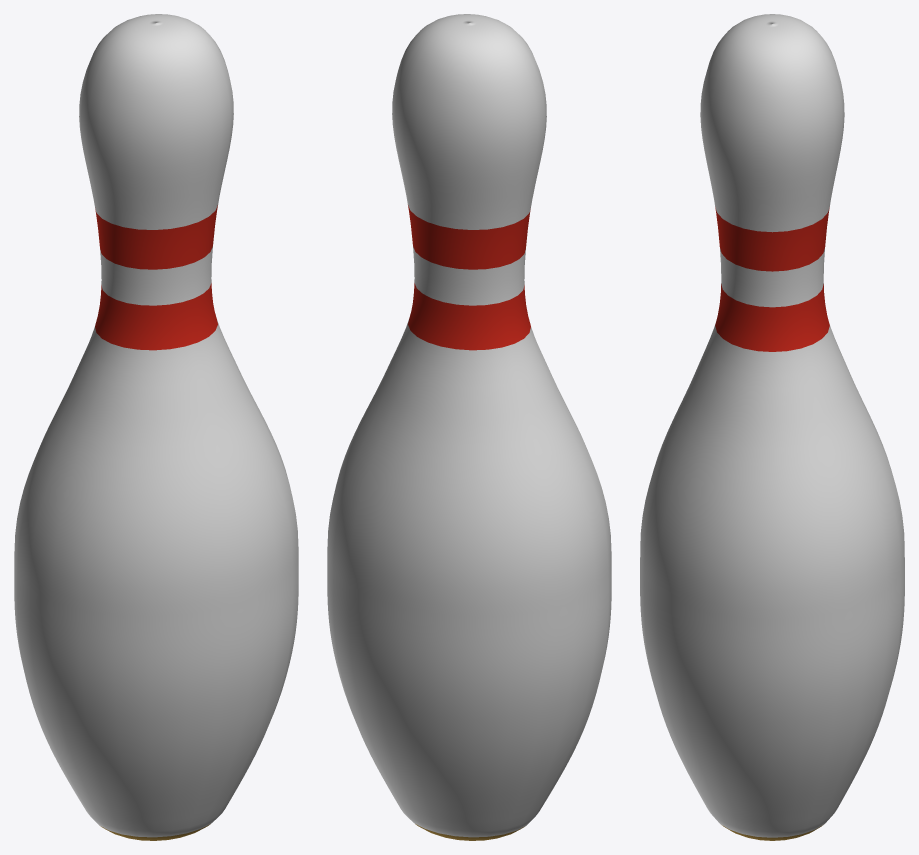
The model's file is pin.fbx.
3 views of the same model, side by side, from view 1: azimuth 30°, elevation 25°; view 2: azimuth 150°, elevation 25°; view 3: azimuth 270°, elevation 25° (orthographic).
Visible parts, largest first — view 1: Pin; view 2: Pin; view 3: Pin.
Boxes of the visible parts, x1,y1,x2,y2 form: Pin: [14, 14, 298, 840]; Pin: [327, 14, 611, 840]; Pin: [640, 14, 904, 840].
Bounding box in the file's own units: 12.43 × 37.99 × 11.37.
